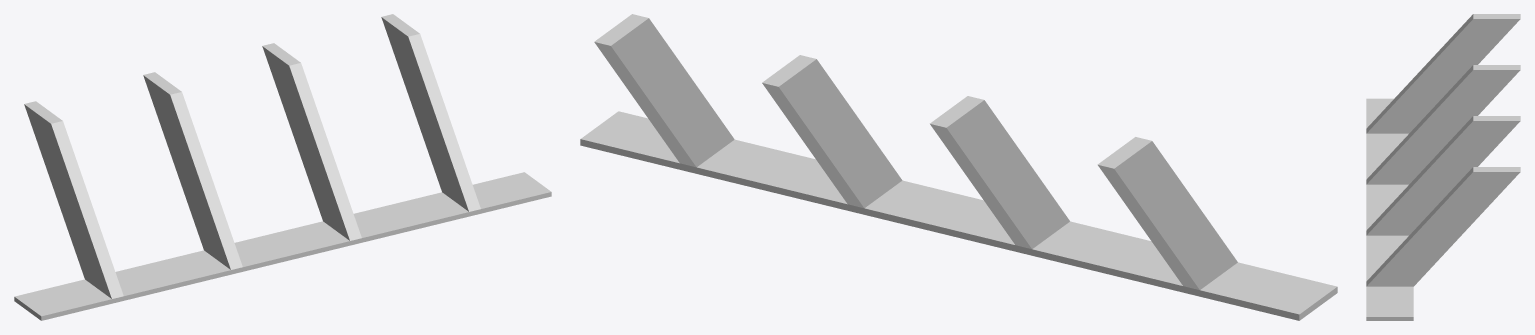
Rendered from BikeRack_01.fbx.
3 renders of one model, left to right at view 1: azimuth 30°, elevation 25°; view 2: azimuth 150°, elevation 25°; view 3: azimuth 270°, elevation 25°, orthographic. The views are drawn at different scales.
Parts seen in each view (by area): view 1: BikeRack_01; view 2: BikeRack_01; view 3: BikeRack_01.
Boxes of the visible parts, x1,y1,x2,y2 form: BikeRack_01: (14,14,551,320); BikeRack_01: (580,14,1337,320); BikeRack_01: (1366,14,1520,320).
Size of the model in its own units: 1532 by 388 by 457.
